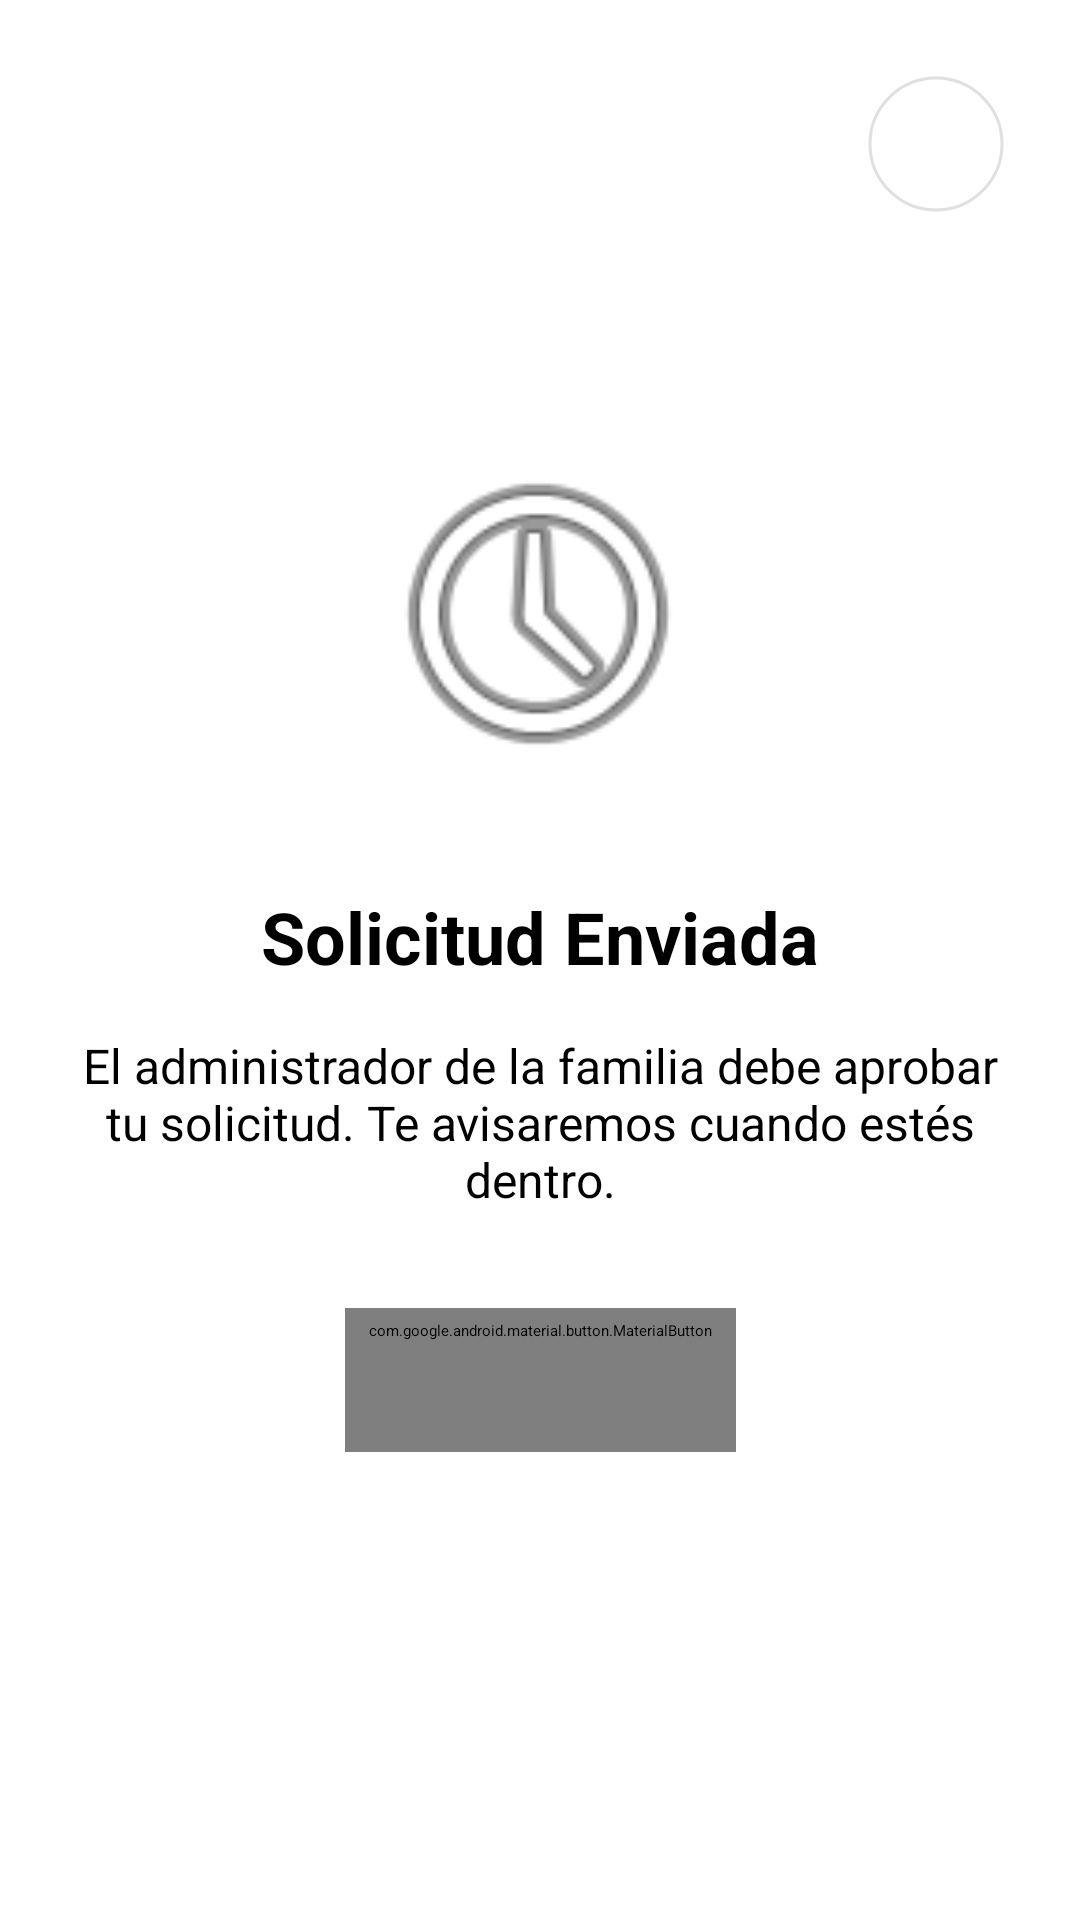

Locate icon controls on the screen. Image size 1080×1920, boxes as [x1=x1, y1=y1, x2=x2, y2=y2].
recent history: [x1=407, y1=483, x2=669, y2=744]
